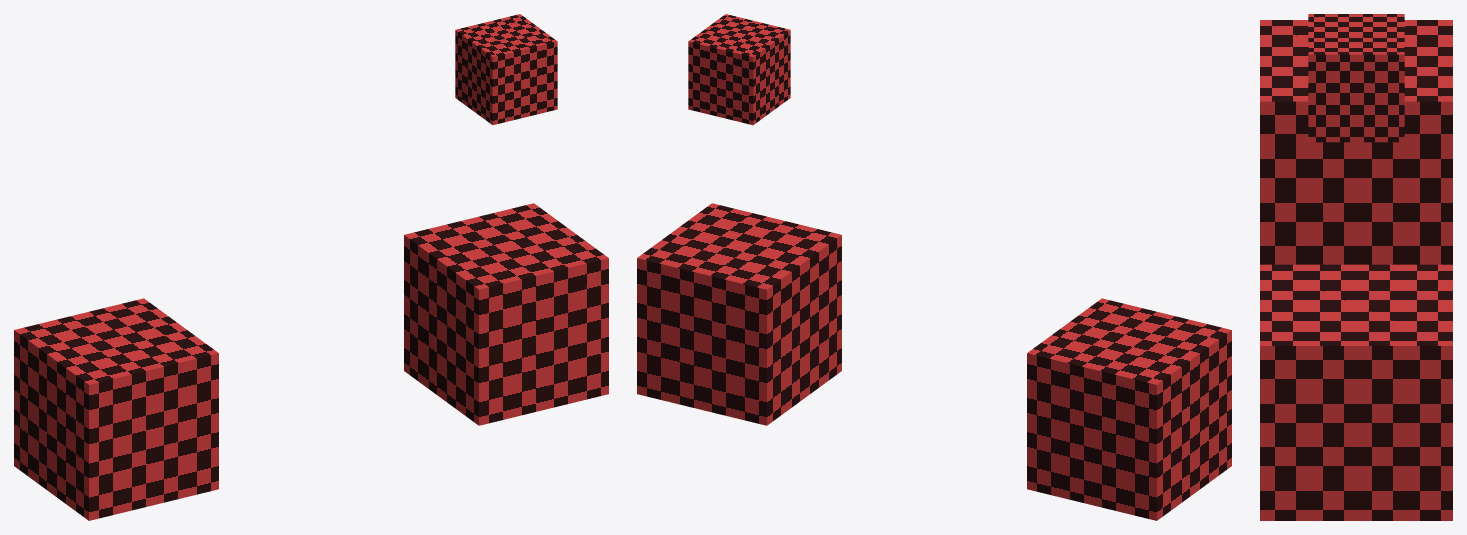
The picture shows the model from 3 angles, left to right: view 1: azimuth 30°, elevation 25°; view 2: azimuth 150°, elevation 25°; view 3: azimuth 270°, elevation 25°; orthographic projection. The views are drawn at different scales.
Visible parts, largest first — view 1: RightCube, LeftCube, SmallCubeOnRight; view 2: RightCube, LeftCube, SmallCubeOnRight; view 3: RightCube, LeftCube, SmallCubeOnRight.
Part boxes in pixels (left/top/right/bottom): RightCube: left=404, top=203, right=608, bottom=425; LeftCube: left=14, top=298, right=218, bottom=520; SmallCubeOnRight: left=455, top=14, right=557, bottom=124; RightCube: left=637, top=203, right=841, bottom=425; LeftCube: left=1027, top=298, right=1231, bottom=520; SmallCubeOnRight: left=688, top=14, right=790, bottom=124; RightCube: left=1260, top=264, right=1452, bottom=520; LeftCube: left=1260, top=20, right=1452, bottom=264; SmallCubeOnRight: left=1308, top=14, right=1404, bottom=142.
Bounding box in the file's own units: 4 × 2.55 × 1.
1 material, 1 textured.
